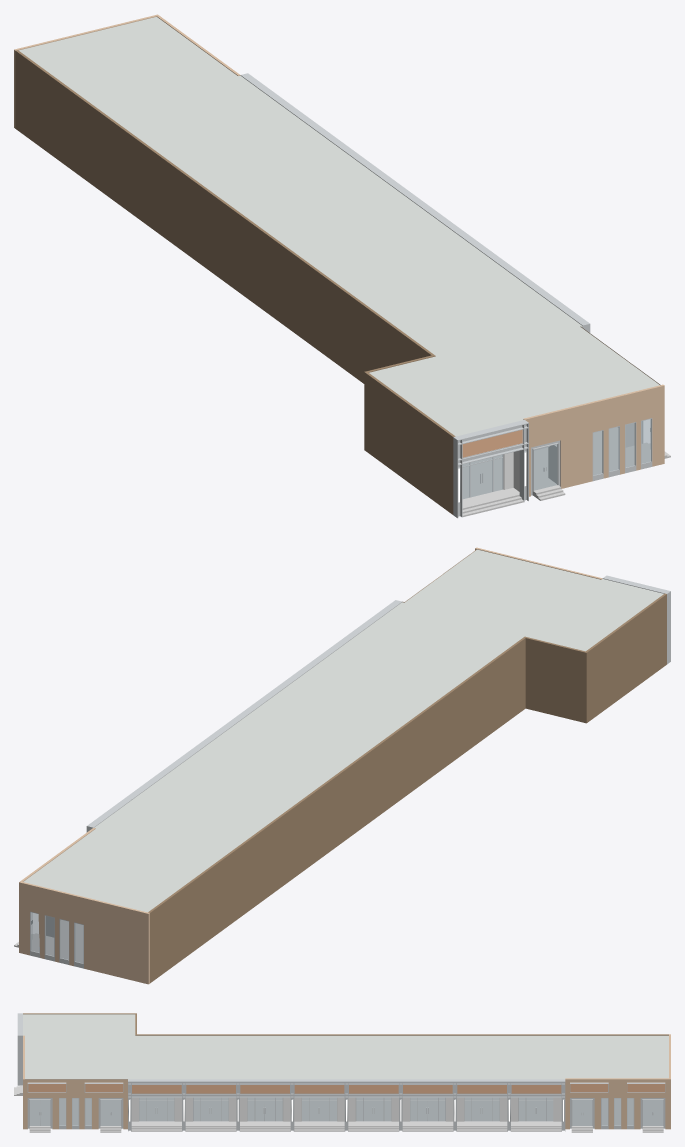
File: rail2.glb
3 renders of one model, top to bottom at view 1: azimuth 30°, elevation 25°; view 2: azimuth 150°, elevation 25°; view 3: azimuth 270°, elevation 25°, orthographic. The views are drawn at different scales.
Parts seen in each view (by area): view 1: 3DXY_geometry_102, 3DXY_geometry_106, 3DXY_geometry_209, 3DXY_geometry_101, 3DXY_geometry_108, 3DXY_geometry_203, 3DXY_geometry_103, 3DXY_geometry_104, 3DXY_geometry_105, 3DXY_geometry_211; view 2: 3DXY_geometry_102, 3DXY_geometry_106, 3DXY_geometry_211, 3DXY_geometry_101, 3DXY_geometry_108, 3DXY_geometry_203; view 3: 3DXY_geometry_102, 3DXY_geometry_203, 3DXY_geometry_108, 3DXY_geometry_101, 3DXY_geometry_105, 3DXY_geometry_103, 3DXY_geometry_104, 3DXY_geometry_211, 3DXY_geometry_209, 3DXY_geometry_106, 3DXY_geometry_100.
Boxes of the visible parts, x1,y1,x2,y2 form: 3DXY_geometry_102: [19, 17, 659, 436]; 3DXY_geometry_106: [15, 50, 455, 514]; 3DXY_geometry_209: [523, 326, 664, 496]; 3DXY_geometry_101: [240, 73, 660, 518]; 3DXY_geometry_108: [462, 419, 651, 498]; 3DXY_geometry_203: [462, 427, 650, 508]; 3DXY_geometry_103: [503, 423, 634, 491]; 3DXY_geometry_104: [462, 442, 670, 516]; 3DXY_geometry_105: [462, 429, 522, 457]; 3DXY_geometry_211: [14, 14, 240, 128]; 3DXY_geometry_102: [23, 549, 663, 912]; 3DXY_geometry_106: [148, 593, 666, 983]; 3DXY_geometry_211: [19, 827, 149, 984]; 3DXY_geometry_101: [30, 554, 670, 968]; 3DXY_geometry_108: [31, 912, 83, 963]; 3DXY_geometry_203: [31, 920, 83, 962]; 3DXY_geometry_102: [23, 1014, 668, 1079]; 3DXY_geometry_203: [30, 1097, 663, 1126]; 3DXY_geometry_108: [30, 1097, 663, 1125]; 3DXY_geometry_101: [17, 1013, 665, 1131]; 3DXY_geometry_105: [28, 1084, 664, 1093]; 3DXY_geometry_103: [28, 1082, 664, 1121]; 3DXY_geometry_104: [14, 1085, 663, 1132]; 3DXY_geometry_211: [565, 1034, 670, 1129]; 3DXY_geometry_209: [23, 1035, 127, 1129]; 3DXY_geometry_106: [23, 1013, 668, 1035]; 3DXY_geometry_100: [129, 1100, 563, 1121].
Size of the model in its own units: 357 by 120 by 1430.
